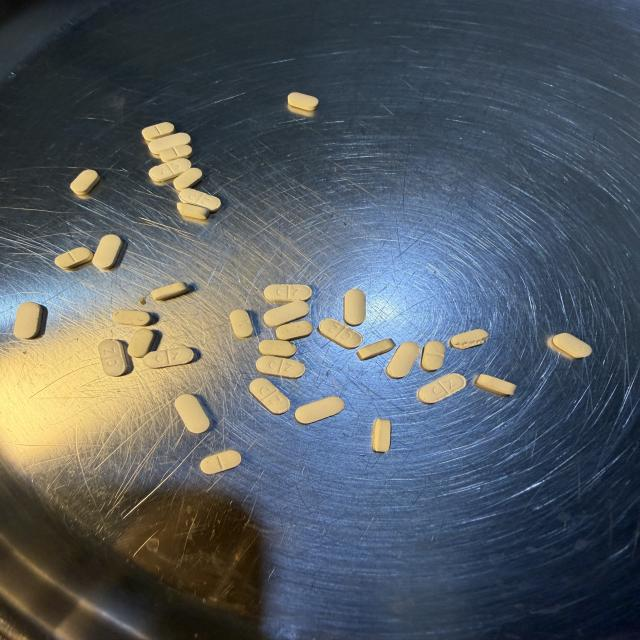pill: (249, 379, 290, 414), (418, 374, 466, 403), (175, 394, 209, 433), (295, 397, 344, 424), (318, 319, 362, 349), (386, 342, 420, 378), (264, 301, 309, 327), (92, 234, 124, 270), (143, 346, 195, 368), (14, 302, 44, 339), (98, 339, 128, 376), (256, 356, 305, 378), (200, 450, 241, 474), (149, 159, 191, 182), (179, 189, 221, 212), (553, 333, 591, 358), (264, 284, 312, 303), (149, 133, 190, 155), (474, 375, 516, 396), (55, 247, 93, 269), (344, 289, 366, 326), (450, 329, 490, 349), (357, 339, 395, 360), (128, 329, 155, 358), (70, 169, 100, 195), (421, 341, 445, 371), (276, 321, 313, 340), (151, 282, 190, 300), (258, 340, 296, 358), (142, 122, 174, 142), (230, 310, 252, 339), (372, 419, 391, 452), (112, 310, 151, 326), (174, 168, 202, 190), (177, 202, 209, 220), (160, 145, 193, 162), (288, 92, 318, 110)
